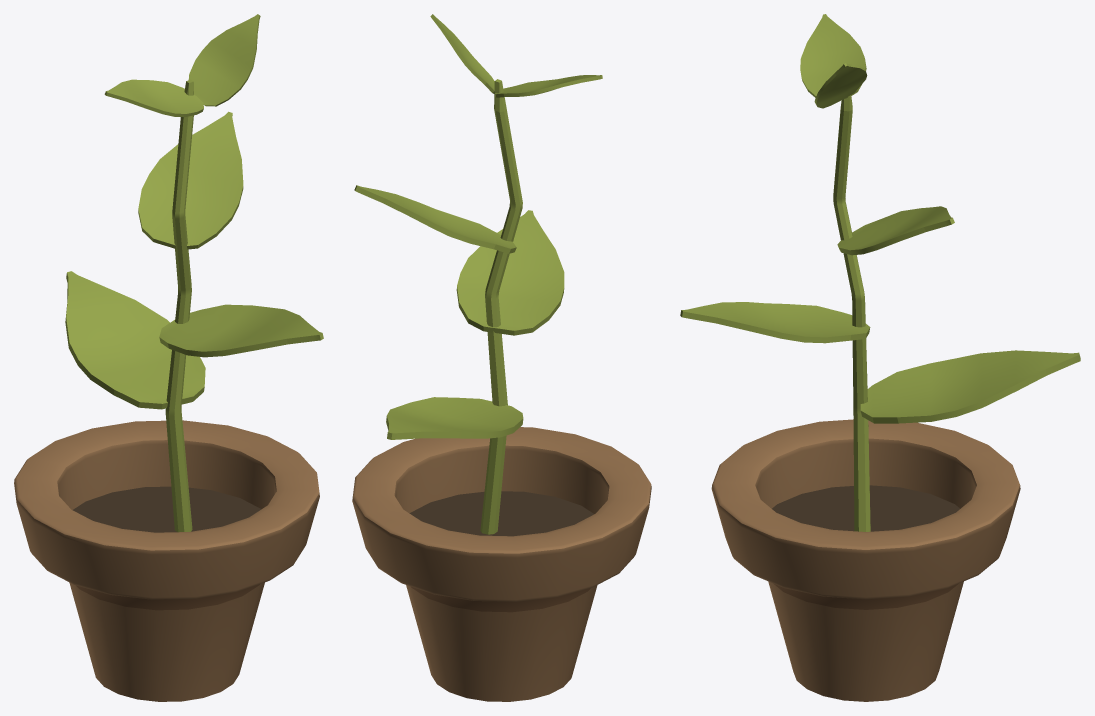
Rendered from 04stengelplant_nieuwestijl.fbx.
3 views of the same model, side by side, from view 1: azimuth 30°, elevation 25°; view 2: azimuth 150°, elevation 25°; view 3: azimuth 270°, elevation 25° (orthographic). The views are drawn at different scales.
Visible parts, largest first — view 1: pCube348; view 2: pCube348; view 3: pCube348.
Part boxes in pixels (<box>): pCube348: <box>14,14,323,701</box>; pCube348: <box>352,14,651,701</box>; pCube348: <box>680,14,1080,701</box>.
Size of the model in its own units: 0.5559 by 1.29 by 0.7206.
